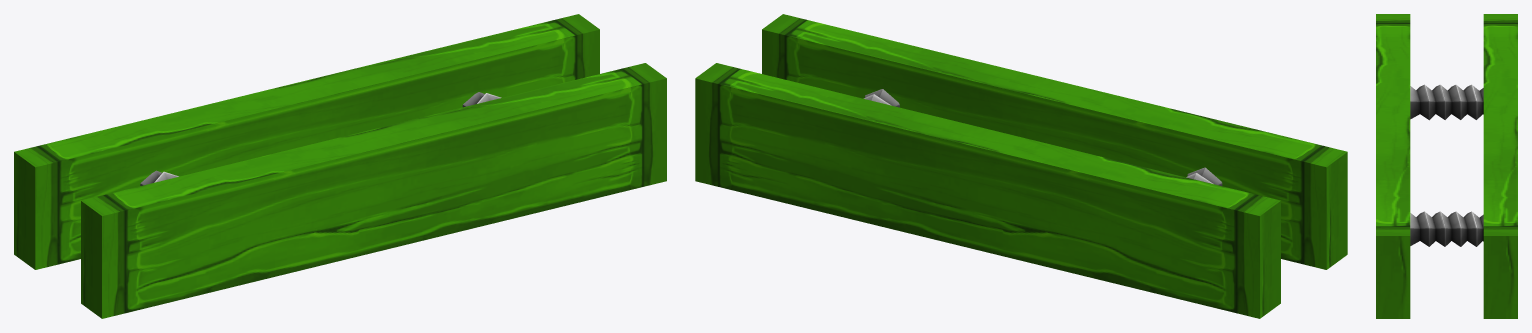
The model's file is fence_green_03.fbx.
The picture shows the model from 3 angles, left to right: view 1: azimuth 30°, elevation 25°; view 2: azimuth 150°, elevation 25°; view 3: azimuth 270°, elevation 25°; orthographic projection. The views are drawn at different scales.
Visible parts, largest first — view 1: front_wall_5, back_wall_4; view 2: back_wall_4, front_wall_5; view 3: front_wall_5, back_wall_4, spring_12, spring_11.
Boxes of the visible parts, x1,y1,x2,y2 form: front_wall_5: (81,63,666,318); back_wall_4: (14,14,599,269); back_wall_4: (695,63,1280,318); front_wall_5: (762,14,1347,269); front_wall_5: (1376,14,1410,318); back_wall_4: (1483,14,1517,318); spring_12: (1410,211,1483,246); spring_11: (1410,84,1483,120).
Size of the model in its own units: 230 by 40 by 62.11.
